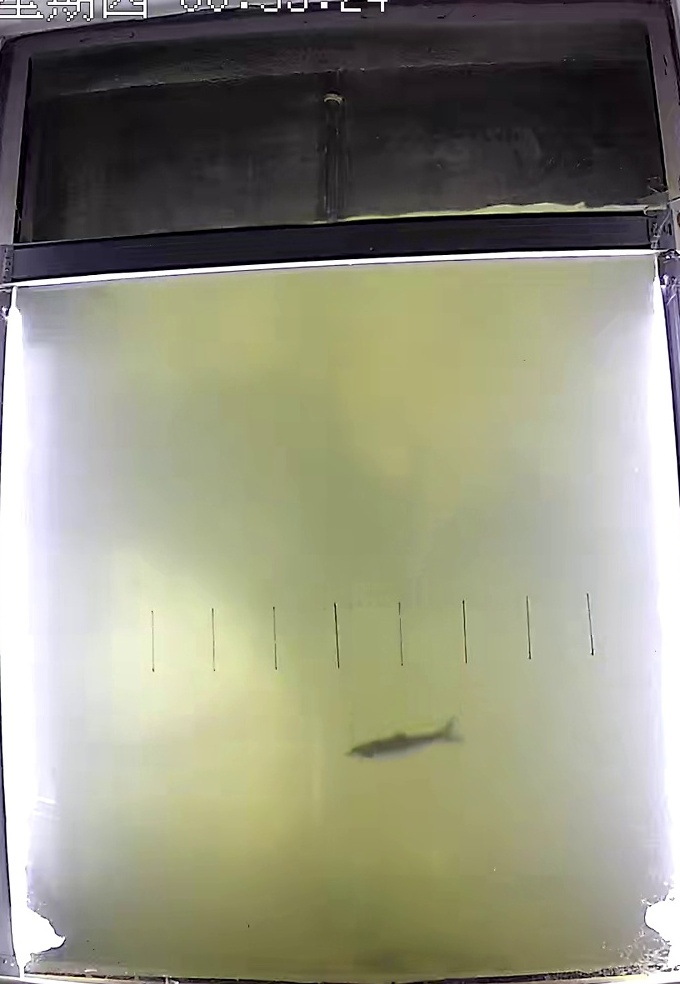fish: (343, 715, 462, 759)
